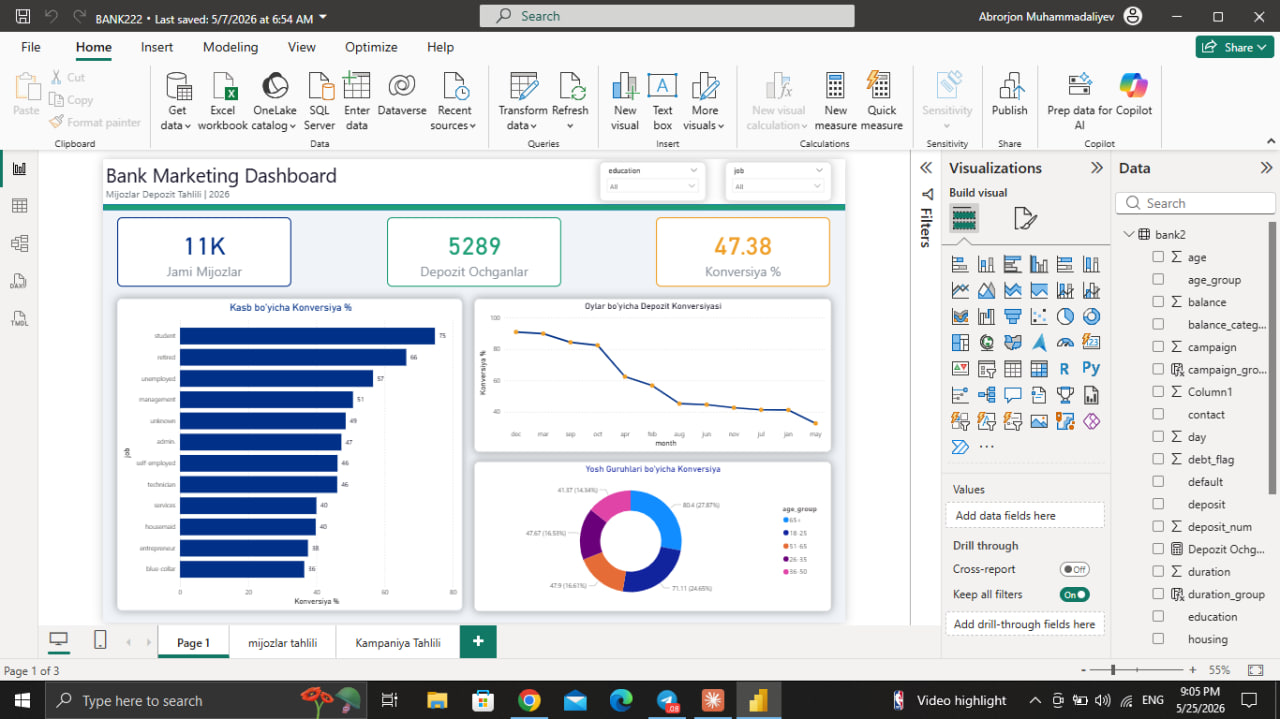

What the dashboard file says about the page in this screenshot:
{"tool":"powerbi","page":{"name":"Page 1","canvas":[1440,900],"ordinal":0},"visuals":[{"type":"textbox","box":[0,0,1440.4,86.8],"z":0},{"type":"shape","box":[0,86.8,1440.4,12.4],"z":1000},{"type":"card","fields":{"Values":["bank2.Jami Mijozlar"]},"box":[26.6,111.9,338.4,134.6],"z":2000},{"type":"card","fields":{"Values":["bank2.Depozit Ochganlar"]},"box":[550.1,111.9,338.4,134.6],"z":3000},{"type":"card","fields":{"Values":["bank2.Konversiya %"]},"box":[1073.6,111.9,338.4,134.6],"z":4000},{"type":"lineChart","title":"Oylar bo''yicha Depozit Konversiyasi","fields":{"Category":["bank2.month"],"Y":["bank2.Konversiya %"]},"box":[719.3,271.1,692.7,297.6],"z":5000},{"type":"clusteredBarChart","title":"Kasb bo''yicha Konversiya %","fields":{"Category":["bank2.job"],"Y":["bank2.Konversiya %"]},"box":[26.6,271.1,670,605.9],"z":6000},{"type":"donutChart","title":"Yosh Guruhlari bo''yicha Konversiya","fields":{"Y":["bank2.Konversiya %"],"Category":["bank2.age_group"]},"box":[719.3,586.4,692.7,290.6],"z":6001},{"type":"slicer","fields":{"Values":["bank2.job"]},"box":[1206.5,5.3,205.5,76.2],"z":6002},{"type":"slicer","fields":{"Values":["bank2.education"]},"box":[963.8,5.3,205.5,76.2],"z":6003}]}

Visuals, with their boxes on the page's 1440x900 design canvas (x1, y1, x2, y2). These are canvas units, not pixel positions in the 1280x719 screenshot, which may show the page scaled, cropped or inside an application window:
textbox: [x1=0, y1=0, x2=1440, y2=87]
shape: [x1=0, y1=87, x2=1440, y2=99]
card - bank2.Jami Mijozlar: [x1=27, y1=112, x2=365, y2=246]
card - bank2.Depozit Ochganlar: [x1=550, y1=112, x2=888, y2=246]
card - bank2.Konversiya %: [x1=1074, y1=112, x2=1412, y2=246]
"Oylar bo''yicha Depozit Konversiyasi" lineChart: [x1=719, y1=271, x2=1412, y2=569]
"Kasb bo''yicha Konversiya %" clusteredBarChart: [x1=27, y1=271, x2=697, y2=877]
"Yosh Guruhlari bo''yicha Konversiya" donutChart: [x1=719, y1=586, x2=1412, y2=877]
slicer - bank2.job: [x1=1206, y1=5, x2=1412, y2=82]
slicer - bank2.education: [x1=964, y1=5, x2=1169, y2=82]
